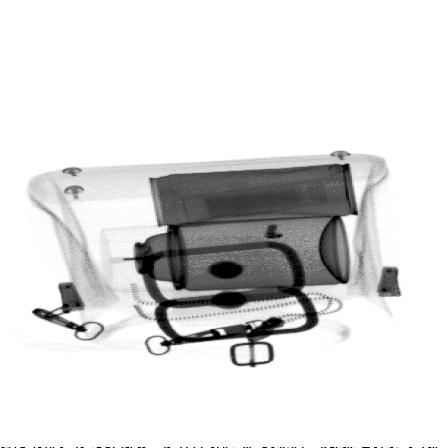Sprayer: (96, 214, 352, 296)
